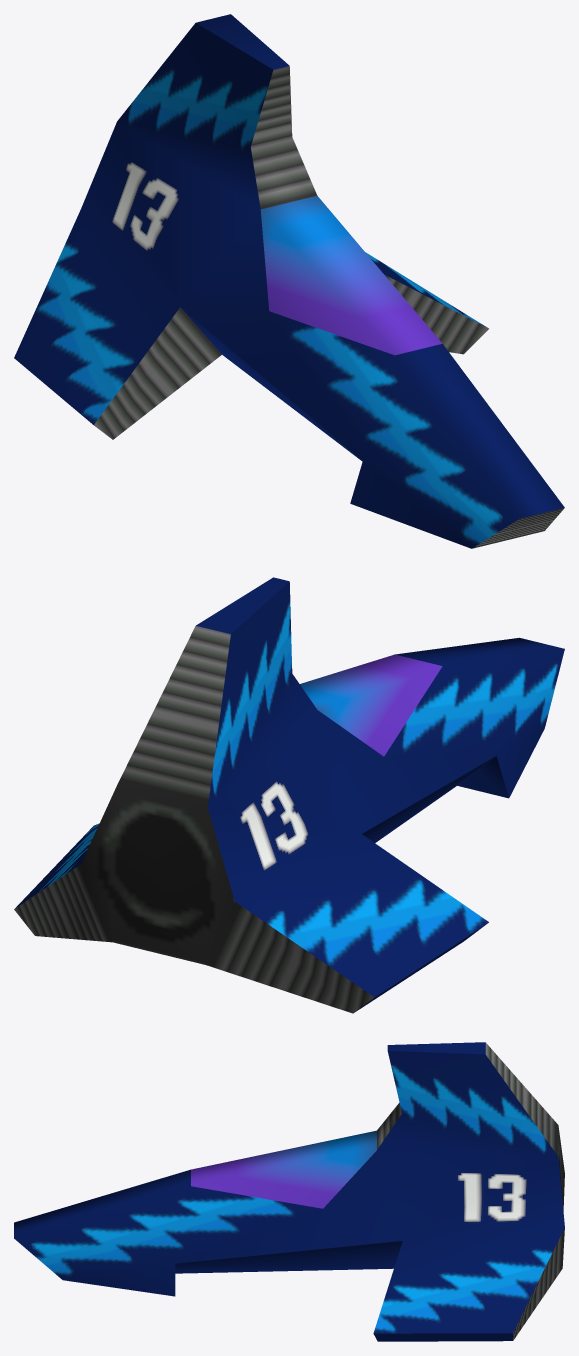
3 views of the same model, one above another, from view 1: azimuth 30°, elevation 25°; view 2: azimuth 150°, elevation 25°; view 3: azimuth 270°, elevation 25° (orthographic). The views are drawn at different scales.
Visible parts, largest first — view 1: Joint_0_Object_0; view 2: Joint_0_Object_0; view 3: Joint_0_Object_0.
Part boxes in pixels (x1,y1,x2,y2): Joint_0_Object_0: (14,14,564,548); Joint_0_Object_0: (14,577,564,1013); Joint_0_Object_0: (14,1042,564,1341).
Bounding box in the file's own units: 31.39 × 25.12 × 52.81.
Materials: 1 (1 with a texture image).
